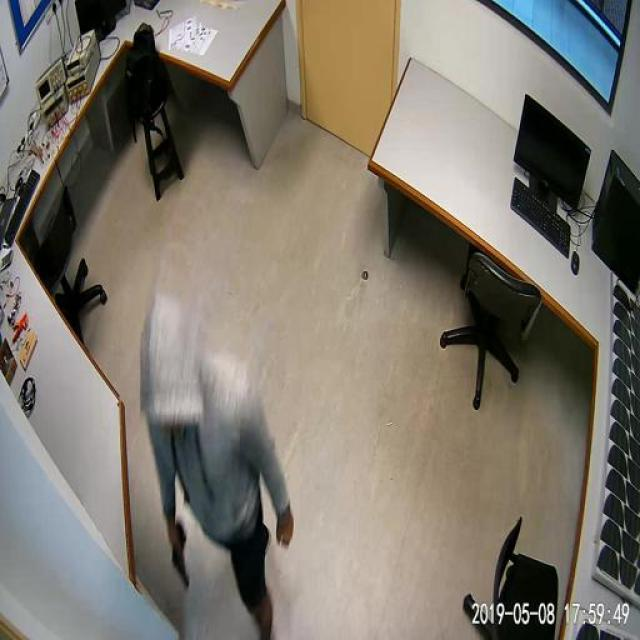Gun: (156, 522, 212, 594)
